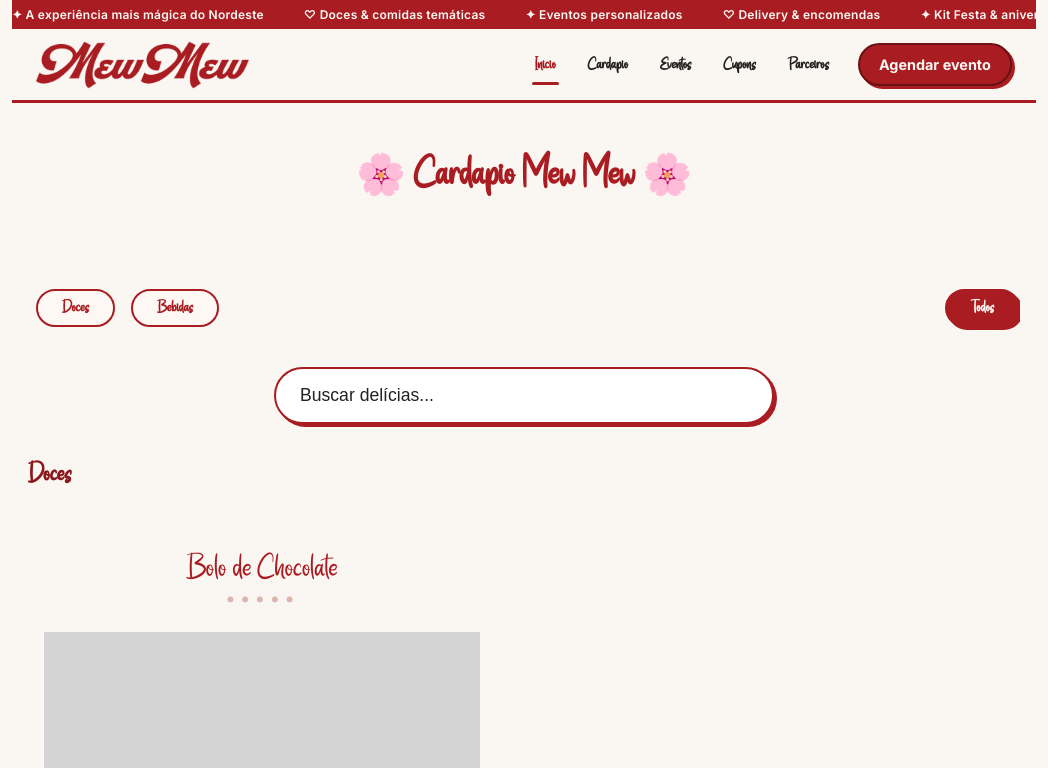
Página de Cardápio › deve filtrar produtos pela busca
The image size is (1048, 768).
Expected: the heading "Bolo de Chocolate" is shown, x1=186 y1=552 x2=338 y2=586
In the field with placeholder "Buscar delícias...": (524, 396) x1=274 y1=367 x2=774 y2=424, type "Café"
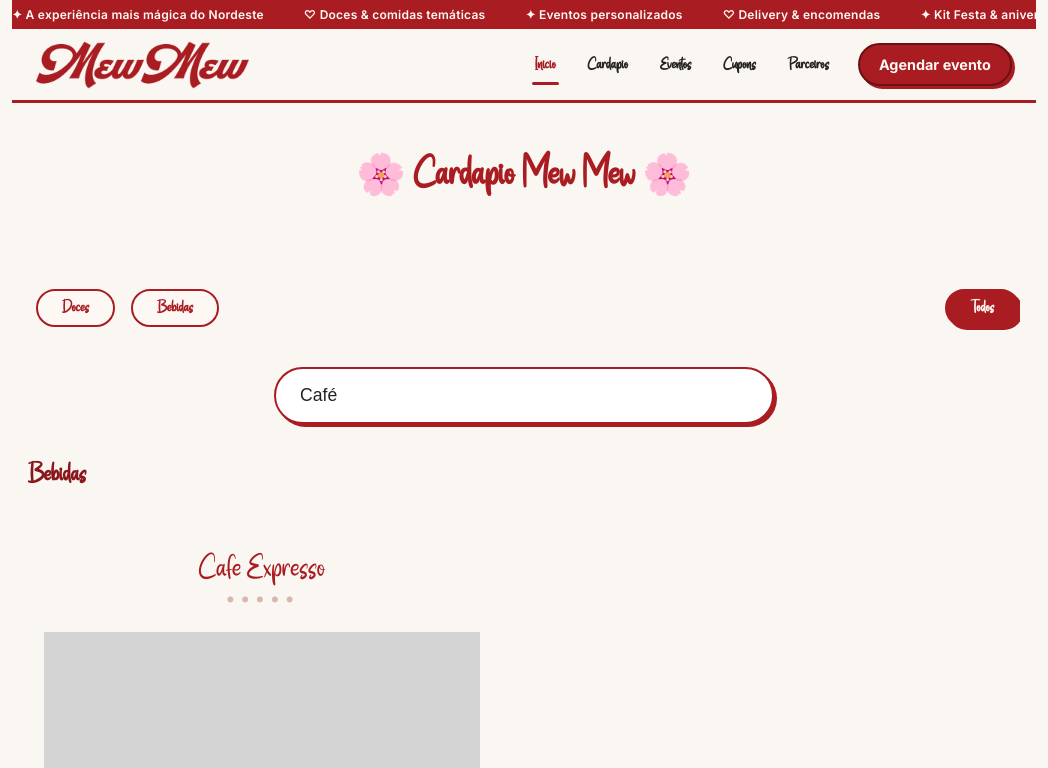
Expected: the heading "Café Expresso" is shown, x1=199 y1=552 x2=325 y2=586
Result: the heading "Bolo de Chocolate" is gone
